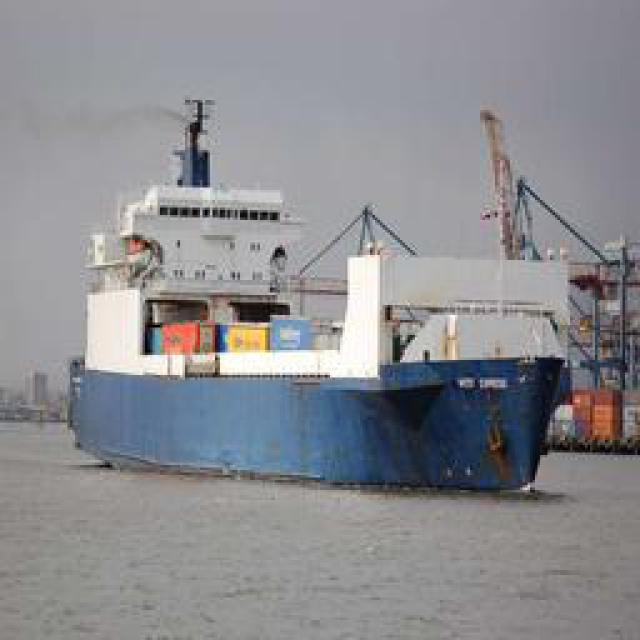Ship: (51, 87, 576, 507)
